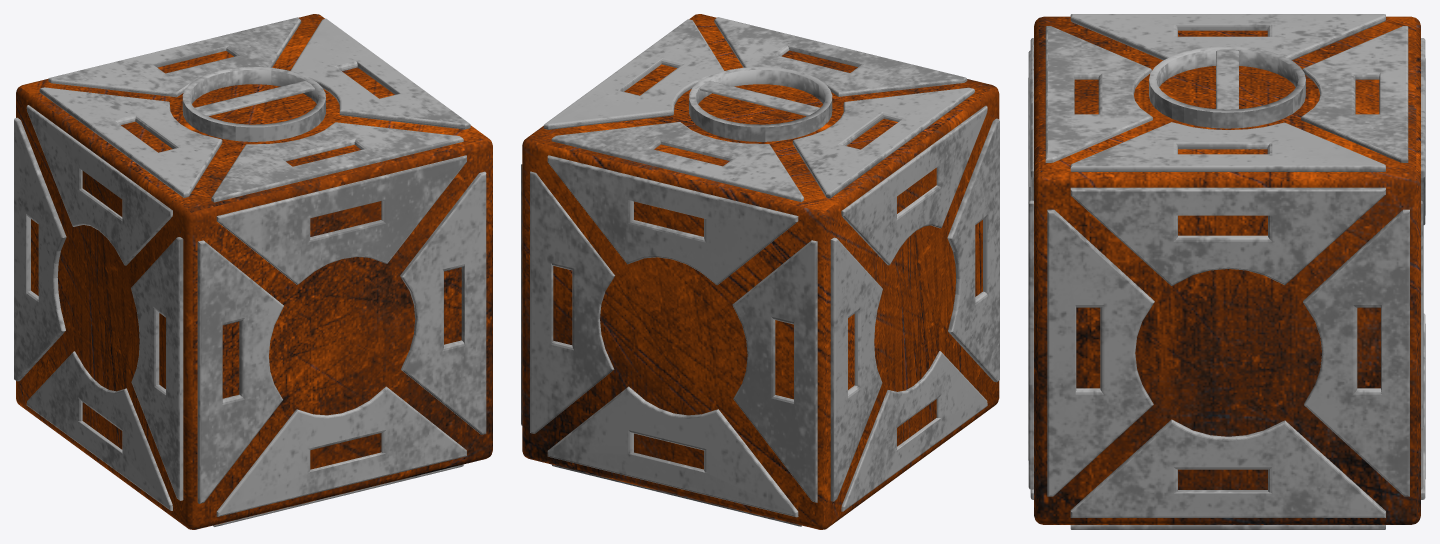
The model's file is CaixaPequena 1.fbx.
The picture shows the model from 3 angles, left to right: view 1: azimuth 30°, elevation 25°; view 2: azimuth 150°, elevation 25°; view 3: azimuth 270°, elevation 25°; orthographic projection. The views are drawn at different scales.
Visible parts, largest first — view 1: Metal; view 2: Metal; view 3: Metal.
Boxes of the visible parts, bbox=[...] form: Metal: bbox=[14, 14, 492, 529]; Metal: bbox=[521, 14, 999, 529]; Metal: bbox=[1028, 14, 1425, 529].
Size of the model in its own units: 0.9175 by 0.9469 by 0.9115.
2 materials, 2 textured.
